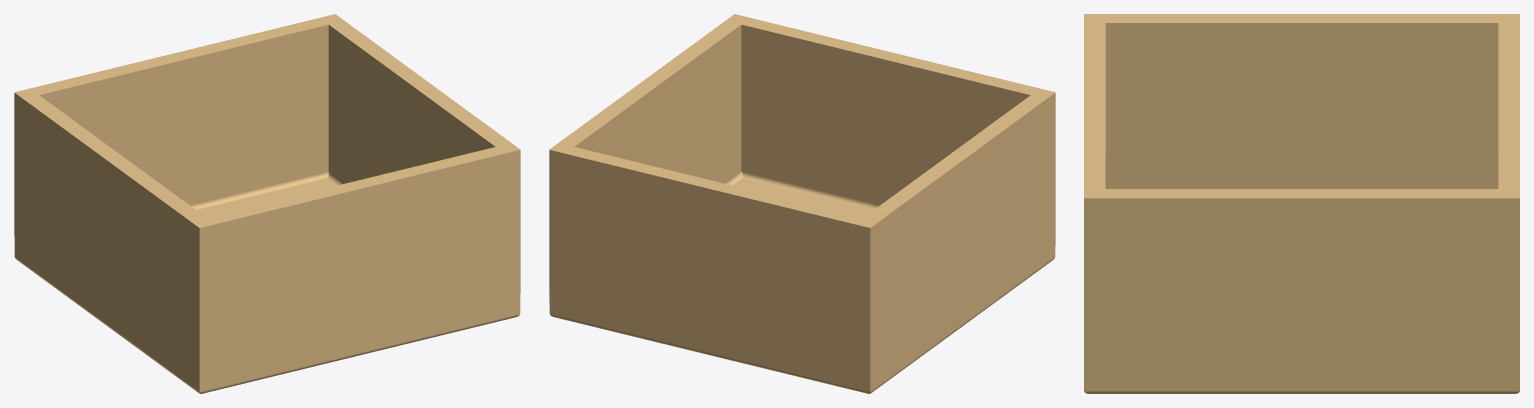
The picture shows the model from 3 angles, left to right: view 1: azimuth 30°, elevation 25°; view 2: azimuth 150°, elevation 25°; view 3: azimuth 270°, elevation 25°; orthographic projection. The views are drawn at different scales.
Visible parts, largest first — view 1: base; view 2: base; view 3: base.
Boxes of the visible parts, x1,y1,x2,y2 form: base: (14,14,520,393); base: (549,14,1055,393); base: (1084,14,1519,393).
Size of the model in its own units: 0.4 by 0.2 by 0.4.
